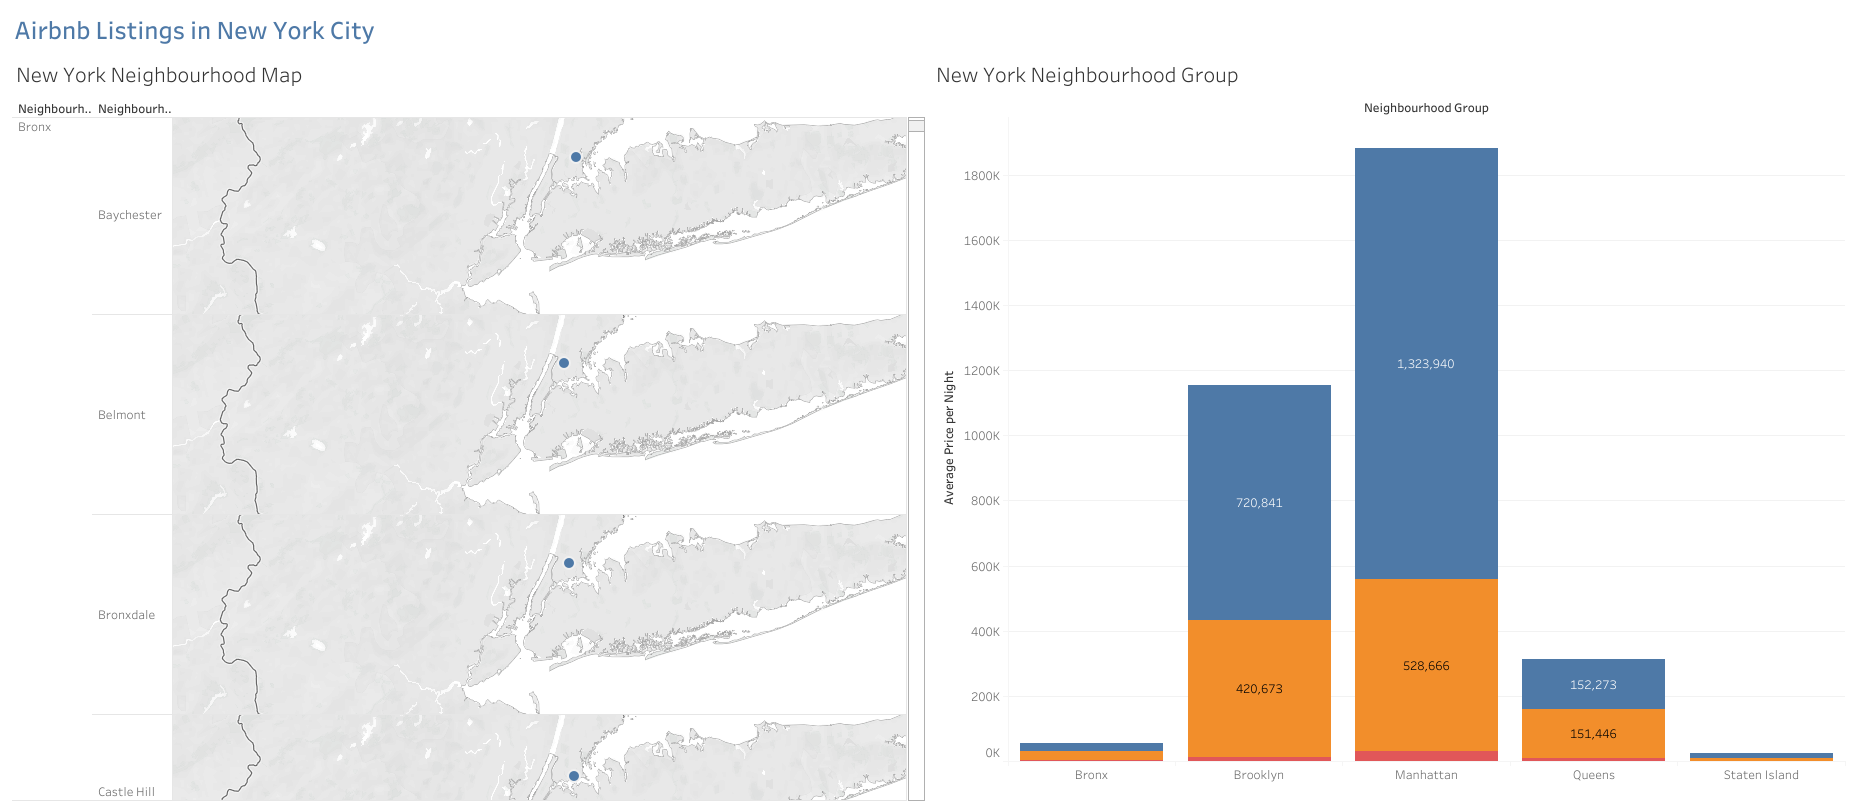

Layout of this report page (visuals, bound fields, positions):
{"tool":"tableau","page":{"name":"Airbnb Listings in New York City","canvas":[1000,1000],"units":"permille","ordinal":0},"visuals":[{"type":"title","box":[3.6,7,992.8,51]},{"type":"worksheet","title":"New York Neighbourhood Map","mark":"Automatic","rows":["neighbourhood_group","neighbourhood","latitude"],"cols":["longitude"],"box":[3.6,58,496.4,935]},{"type":"worksheet","title":"New York Neighbourhood Group","mark":"Automatic","rows":["Calculation_1308295752324210690"],"cols":["neighbourhood_group"],"box":[500,58,496.4,935]}]}

Visuals, with their boxes on the dashboard's canvas, which has no fixed pixel size, in thousandths of its width and height (x1, y1, x2, y2). These are canvas units, not pixel positions in the 1856x812 screenshot, which may show the page scaled, cropped or inside an application window:
title: [left=4, top=7, right=996, bottom=58]
"New York Neighbourhood Map" worksheet: [left=4, top=58, right=500, bottom=993]
"New York Neighbourhood Group" worksheet: [left=500, top=58, right=996, bottom=993]
